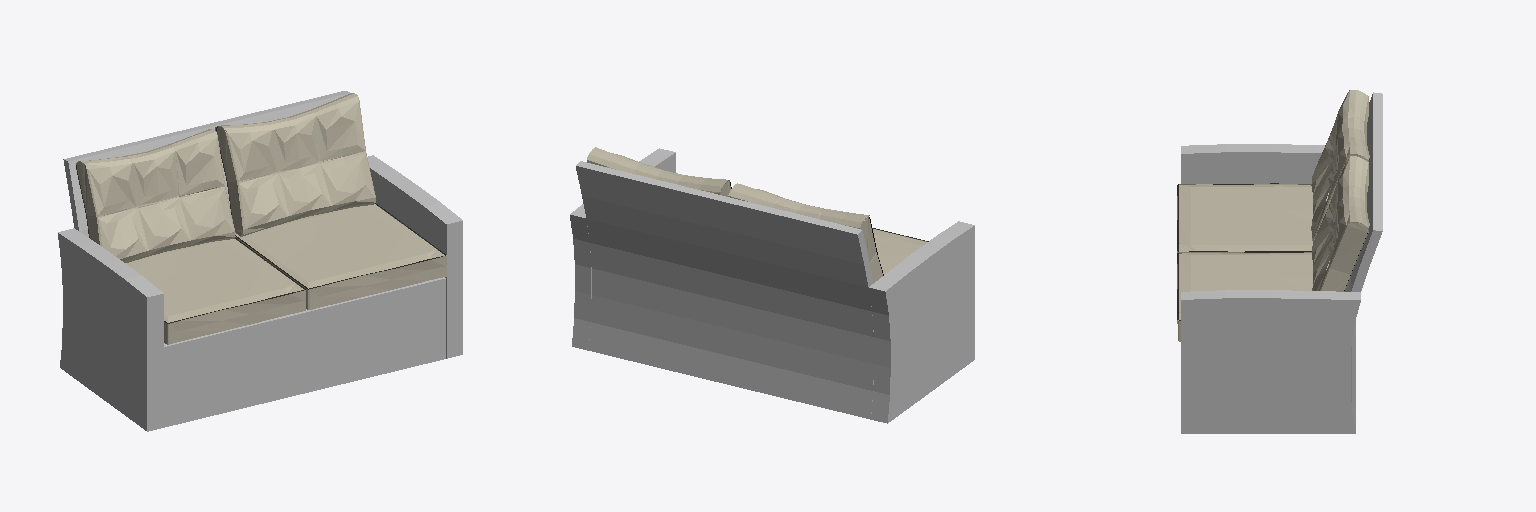
The model's file is rattanSofa.obj.
The picture shows the model from 3 angles: view 1: azimuth 30°, elevation 25°; view 2: azimuth 150°, elevation 25°; view 3: azimuth 270°, elevation 25°; orthographic projection.
Parts seen in each view (by area): view 1: sofa_Cube.001, backCushion_Cube.003, backCushion2_Cube.006, baseCushion_Cube.002, baseCushion2_Cube.005; view 2: sofa_Cube.001, backCushion2_Cube.006, backCushion_Cube.003, baseCushion2_Cube.005; view 3: sofa_Cube.001, baseCushion2_Cube.005, baseCushion_Cube.002, backCushion_Cube.003, backCushion2_Cube.006.
Boxes of the visible parts, x1,y1,x2,y2 form: sofa_Cube.001: [58, 91, 462, 431]; backCushion_Cube.003: [215, 93, 375, 236]; backCushion2_Cube.006: [76, 129, 235, 262]; baseCushion_Cube.002: [235, 203, 446, 309]; baseCushion2_Cube.005: [125, 238, 305, 344]; sofa_Cube.001: [570, 148, 974, 423]; backCushion2_Cube.006: [728, 183, 883, 283]; backCushion_Cube.003: [587, 147, 731, 196]; baseCushion2_Cube.005: [872, 228, 928, 274]; sofa_Cube.001: [1181, 92, 1382, 433]; baseCushion2_Cube.005: [1177, 183, 1312, 252]; baseCushion_Cube.002: [1177, 252, 1312, 341]; backCushion_Cube.003: [1312, 156, 1369, 291]; backCushion2_Cube.006: [1311, 90, 1369, 242].
Bounding box in the file's own units: 129 × 78.71 × 72.45.